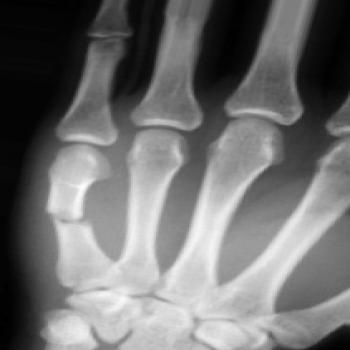Fracture: (39, 202, 102, 234)
